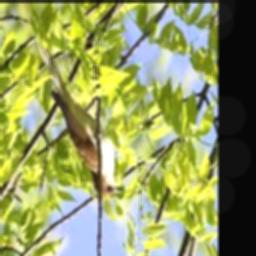Cuckoo: (35, 36, 124, 197)
